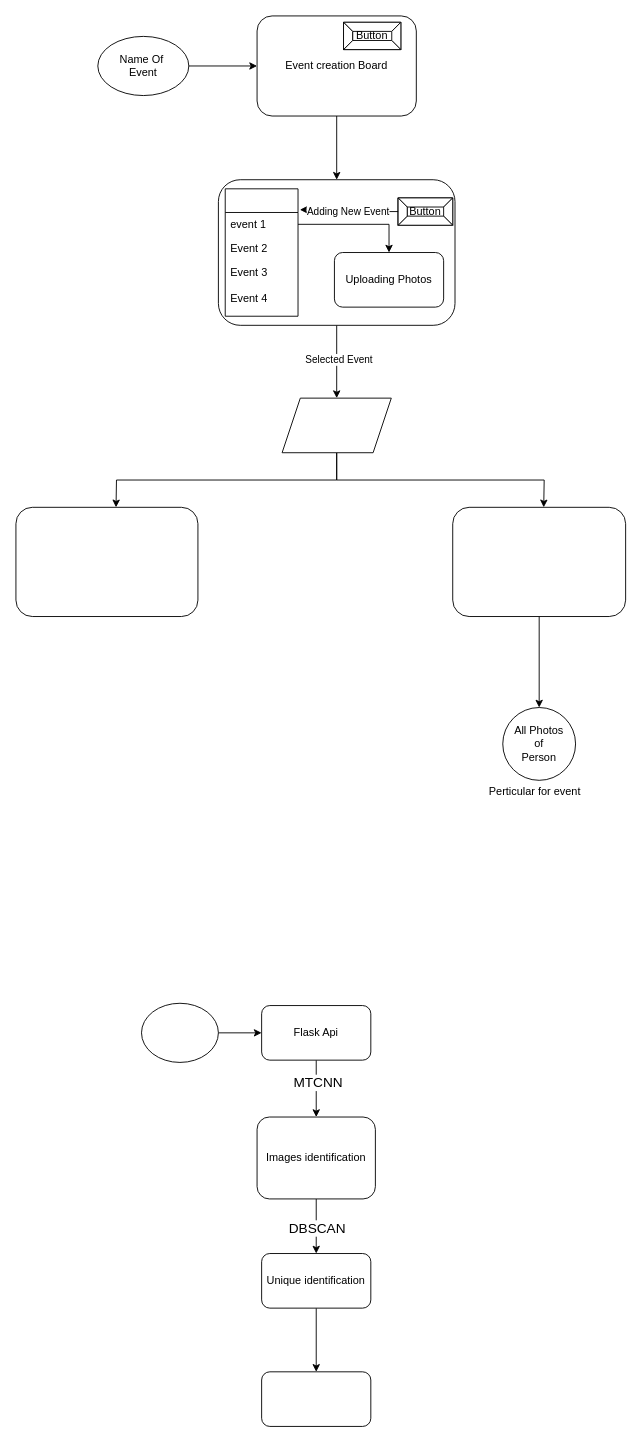
Image size: 642x1442. Some labels were removed from this diagram. The shapes that lost their labels are listed below. From the top down, each one's box as (x1, y1, x2, y2) in pixels, then its label:
(224, 188, 298, 316): Rasam
(15, 506, 198, 617): For All Photos
(452, 506, 626, 617): Peoples
(141, 1002, 218, 1062): Image/s
(261, 1371, 371, 1426): tag person to particular photo
